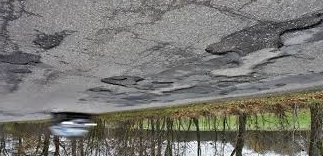pothole: (200, 28, 285, 56), (206, 55, 281, 79), (279, 14, 321, 34), (34, 29, 69, 52), (0, 51, 43, 67), (150, 83, 201, 95), (102, 72, 147, 85), (89, 83, 113, 95), (221, 78, 248, 86), (8, 67, 34, 75), (150, 80, 173, 84)
